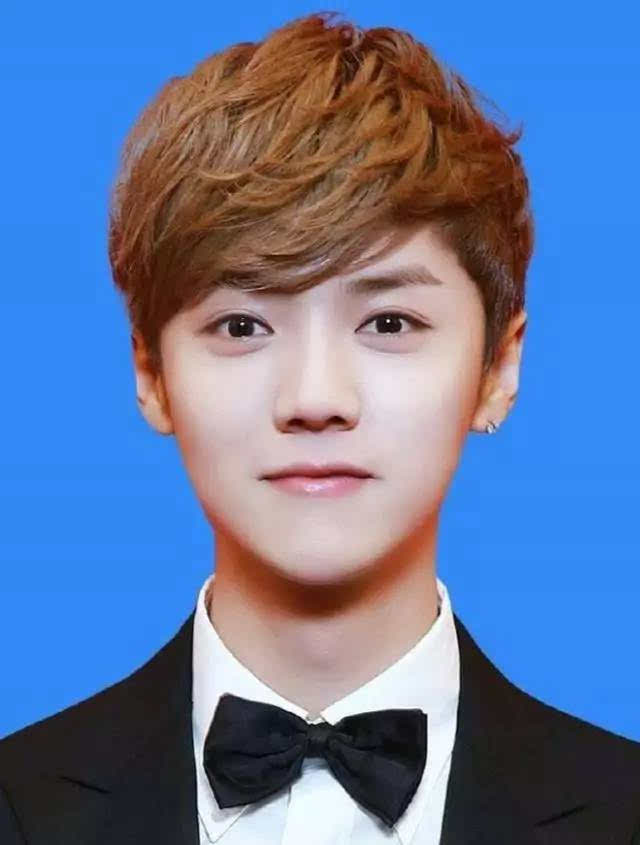unmask: (149, 218, 482, 561)
